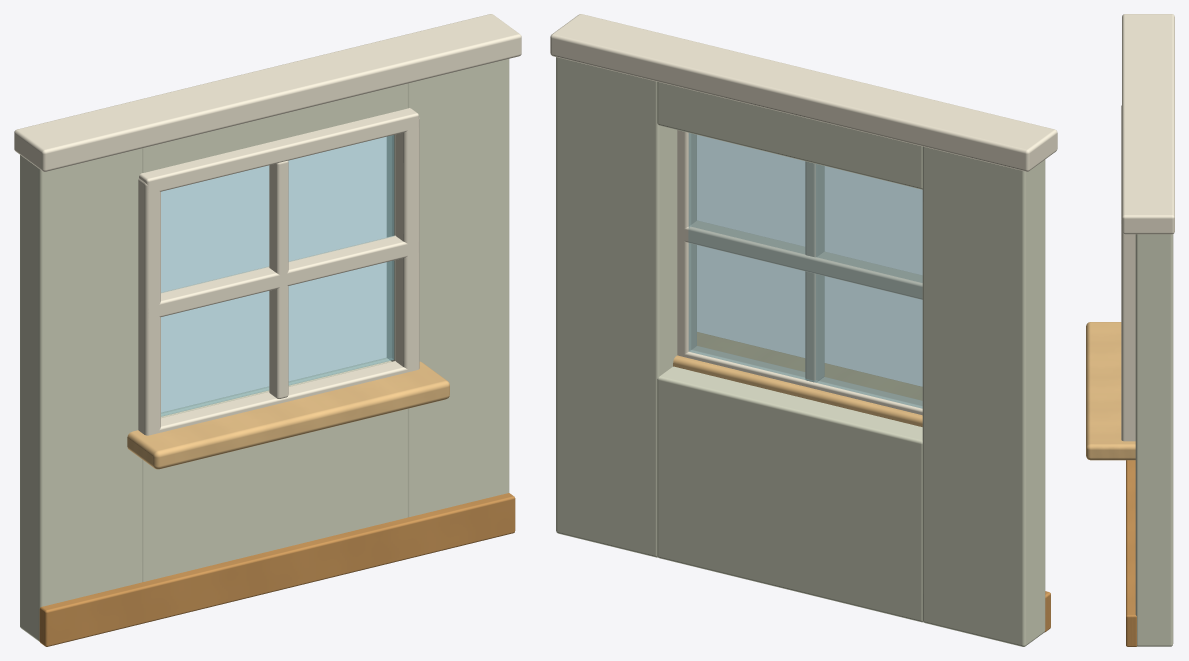
File: Wall_Window.glb
The picture shows the model from 3 angles, left to right: view 1: azimuth 30°, elevation 25°; view 2: azimuth 150°, elevation 25°; view 3: azimuth 270°, elevation 25°; orthographic projection. The views are drawn at different scales.
Parts seen in each view (by area): view 1: Wall_Window; view 2: Wall_Window; view 3: Wall_Window.
Part boxes in pixels (<box>): Wall_Window: <box>14,14,521,646</box>; Wall_Window: <box>550,14,1057,646</box>; Wall_Window: <box>1086,14,1174,646</box>.
Bounding box in the file's own units: 2.04 × 2.03 × 0.3775.
Materials: 5 (2 with a texture image).
